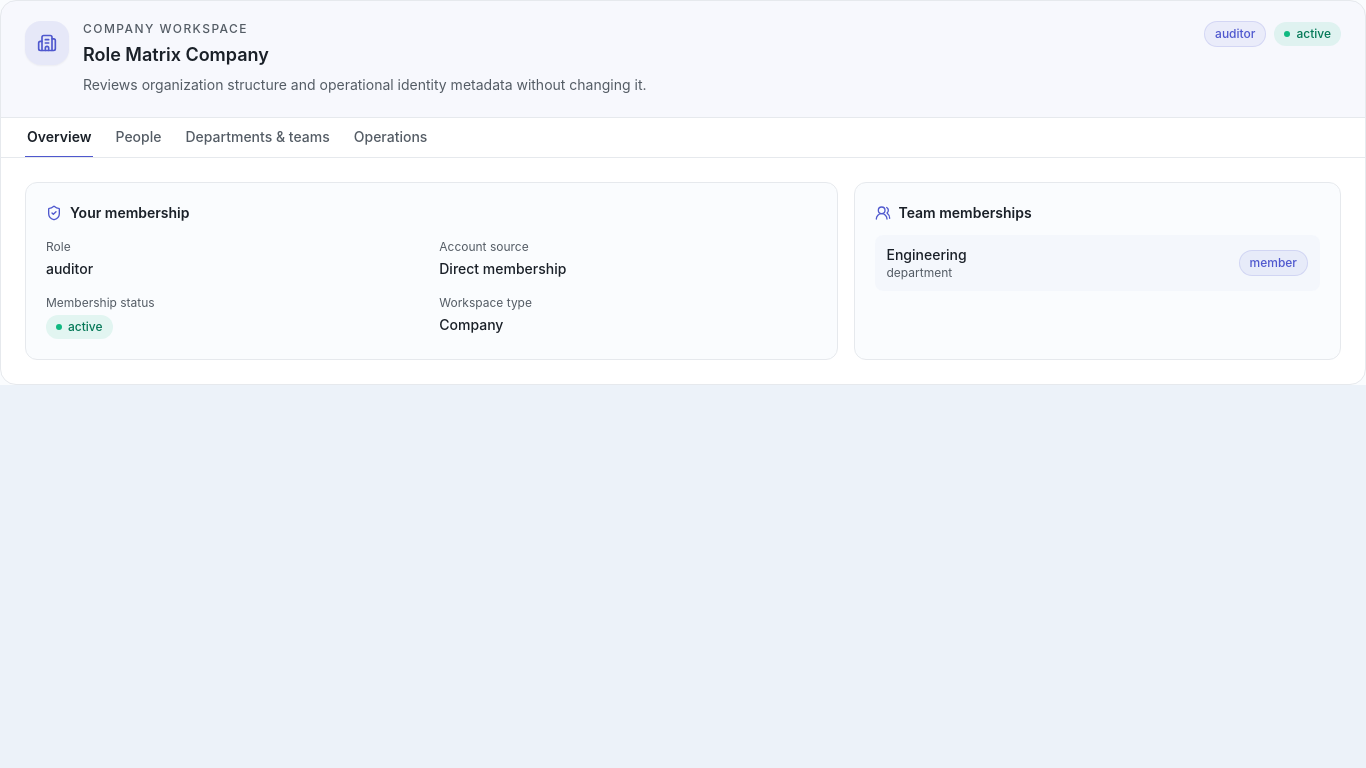
it: organization role surface › auditor can inspect directory and operations without mutation controls
Click the tab "People" at (138,138), box 114,118 -> 164,158
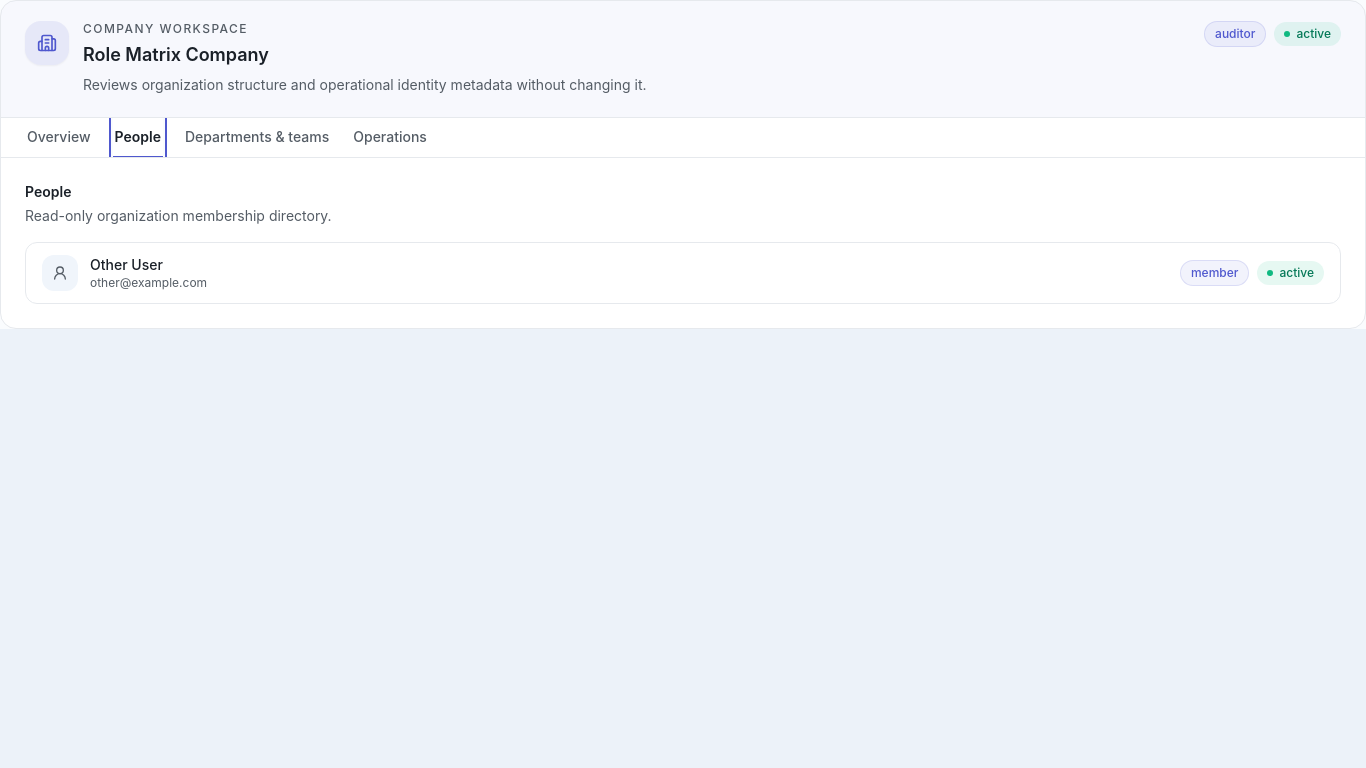
Check: the text "Read-only organization membership directory." is shown, box 25,207 -> 332,224
Click the tab "Departments & teams" at (257,138), box 183,118 -> 331,158
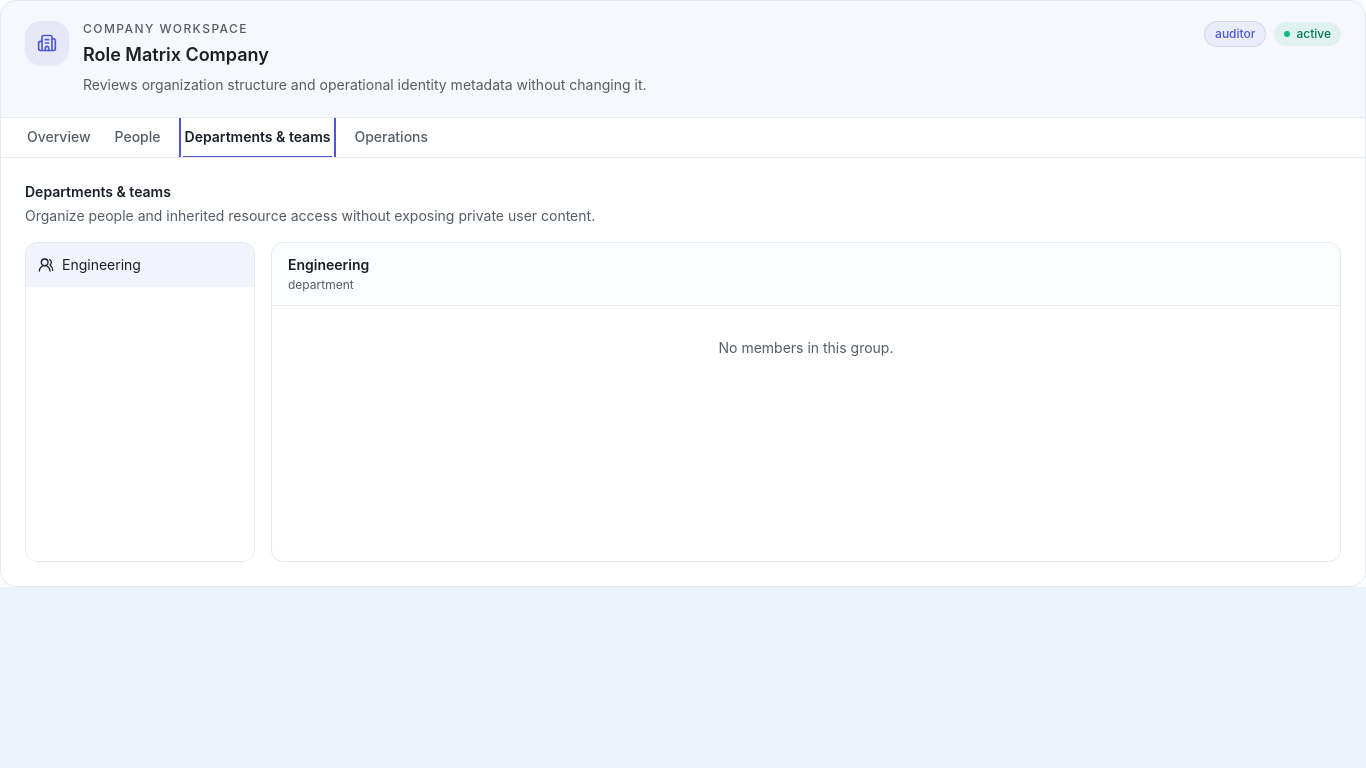
Click the tab "Operations" at (391,138), box 352,118 -> 430,158
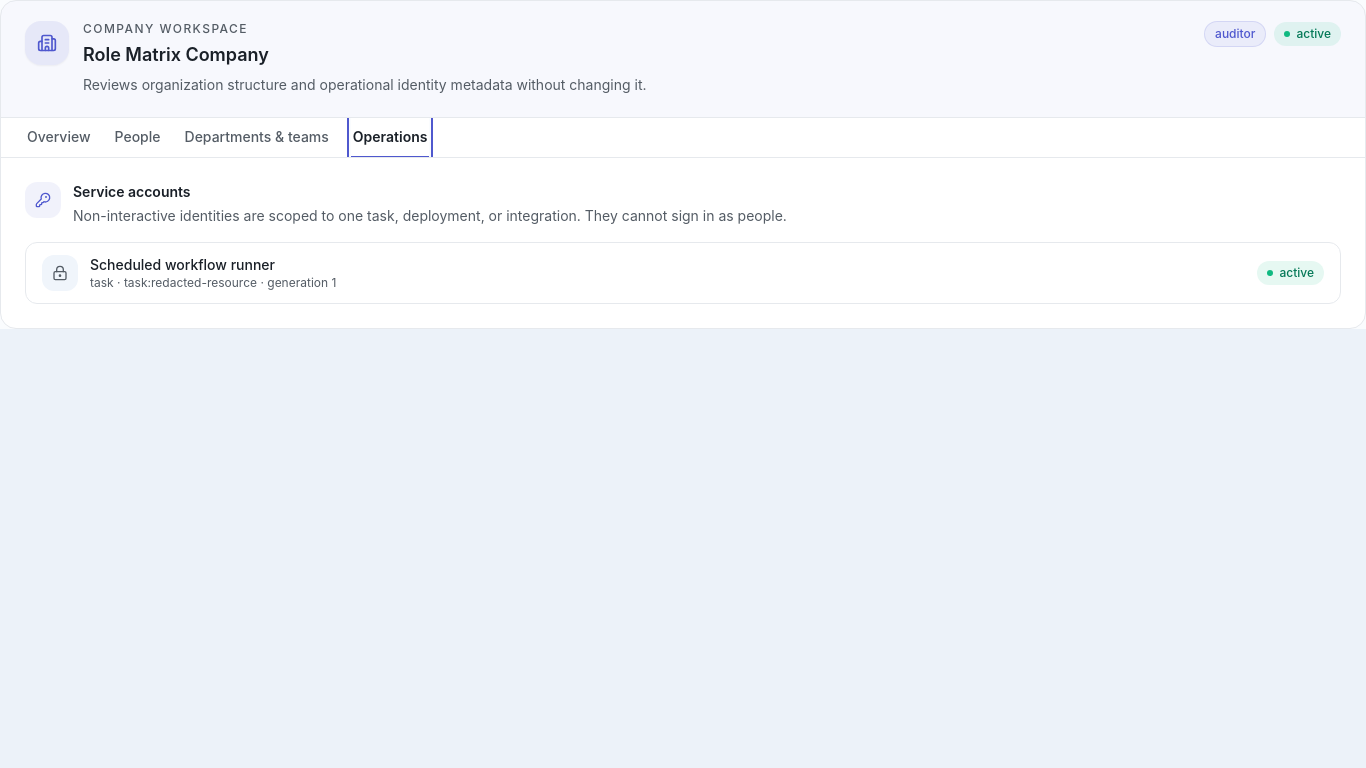
Check: the text "Scheduled workflow runner" is shown, box 90,256 -> 275,273
